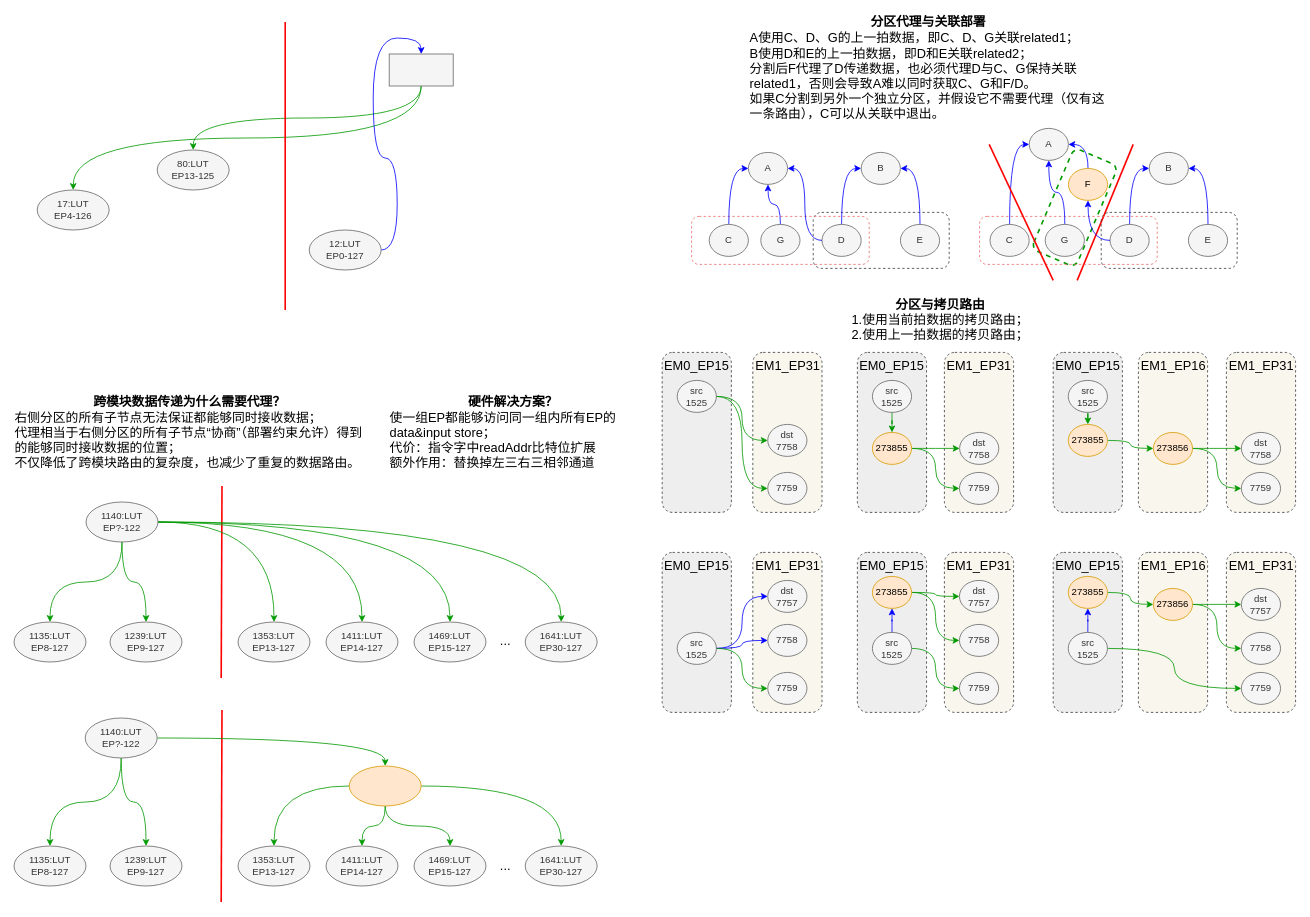
Image size: 1310x917. Some labels were removed from this diagram. Each missing label, with the box of its shape:
32:FF: (388, 53, 453, 86)
8446:COPY: (348, 765, 421, 806)
